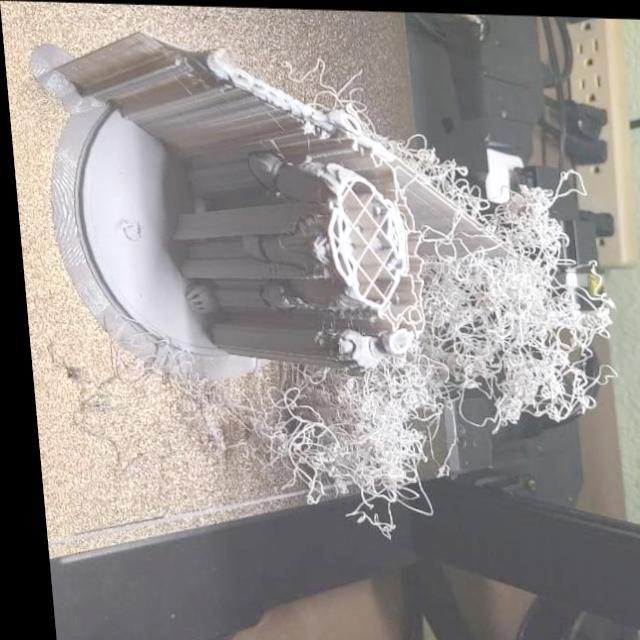spaghetti: (420, 244, 577, 403), (312, 349, 425, 445), (252, 384, 326, 470), (496, 183, 573, 257), (328, 445, 408, 507)
